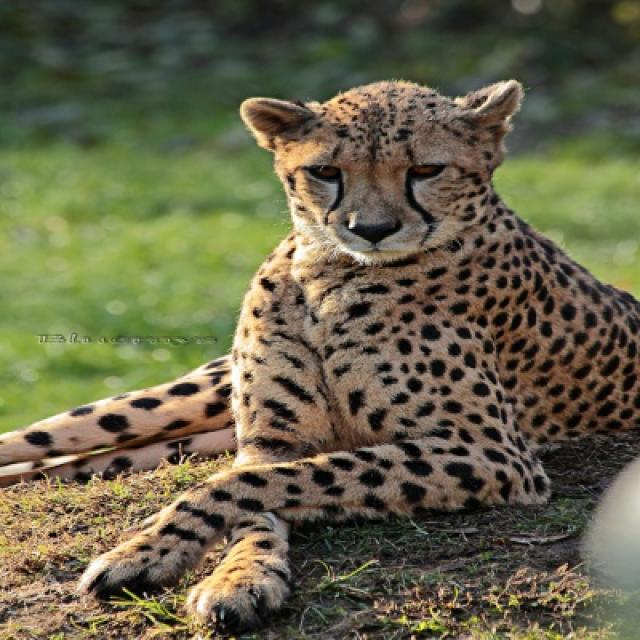Cheetah: (0, 74, 638, 638)
